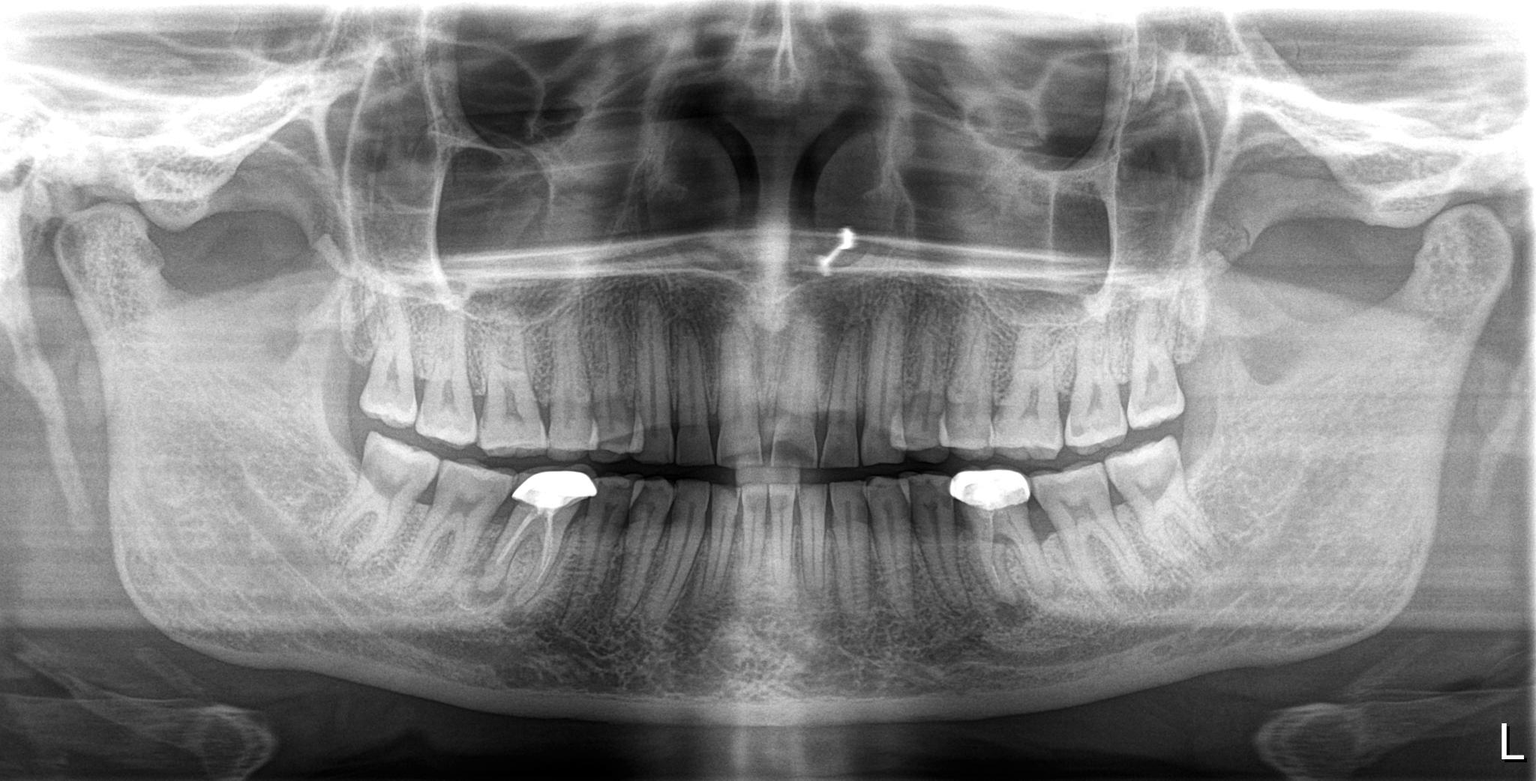Endodontically Treated Tooth: (954, 482, 1052, 601), (516, 465, 596, 610)
Missing Tooth: (334, 315, 370, 421)
